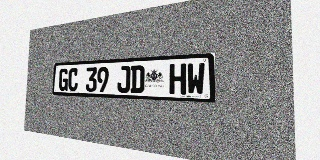3: (85, 67, 97, 92)
9: (97, 67, 109, 92)
C: (68, 68, 78, 91)
D: (130, 65, 145, 93)
G: (58, 68, 68, 91)
H: (169, 63, 186, 94)
J: (117, 66, 130, 93)
W: (187, 63, 205, 95)
